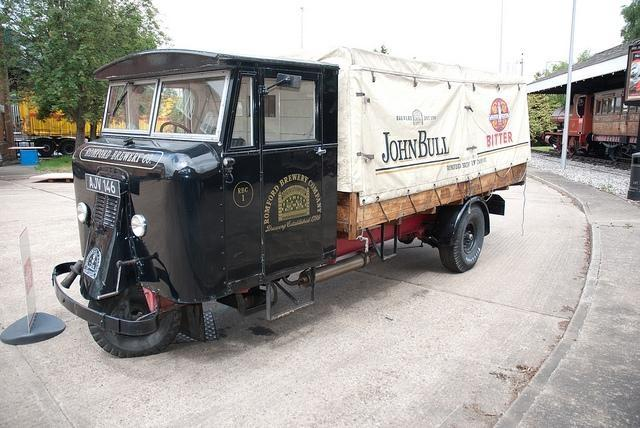truck: (51, 46, 532, 360)
